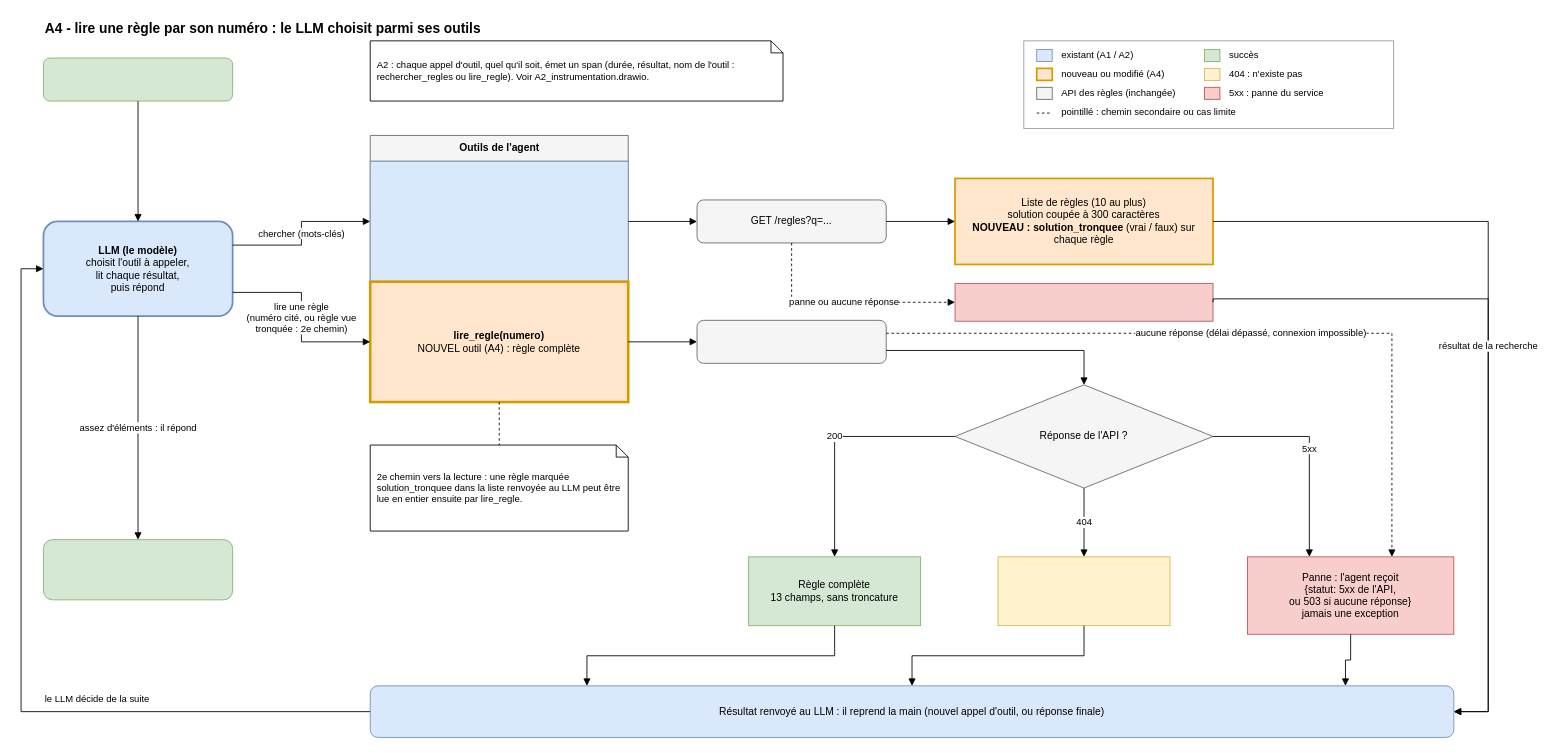
Some shapes in this 1552 by 753 pixel diagram are drawn without their labels. The shapes that lost their labels are listed below. From the top down, each one's centre as x and y in pixels, then its label:
[138,79]: Question reçue (POST /questions)
[498,221]: rechercher_regles(mots_cles) recherche par mots-clés (A1)
[1083,302]: Panne : l'agent reçoit {statut: 5xx, ou 503 si aucune réponse}
[791,341]: GET /regles/{numero}
[138,569]: Réponse finale : texte + règles citées + trace_id
[1083,591]: 404 : l'agent reçoit {statut: 404, erreur: « Règle N inconnue »}
